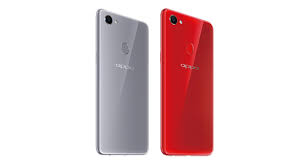oppo: (92, 5, 151, 157), (156, 8, 215, 160)
